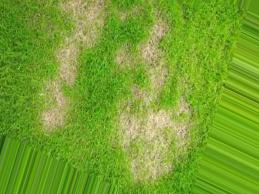patch: (123, 106, 179, 165), (138, 29, 179, 85), (69, 5, 104, 47), (61, 48, 67, 131)
